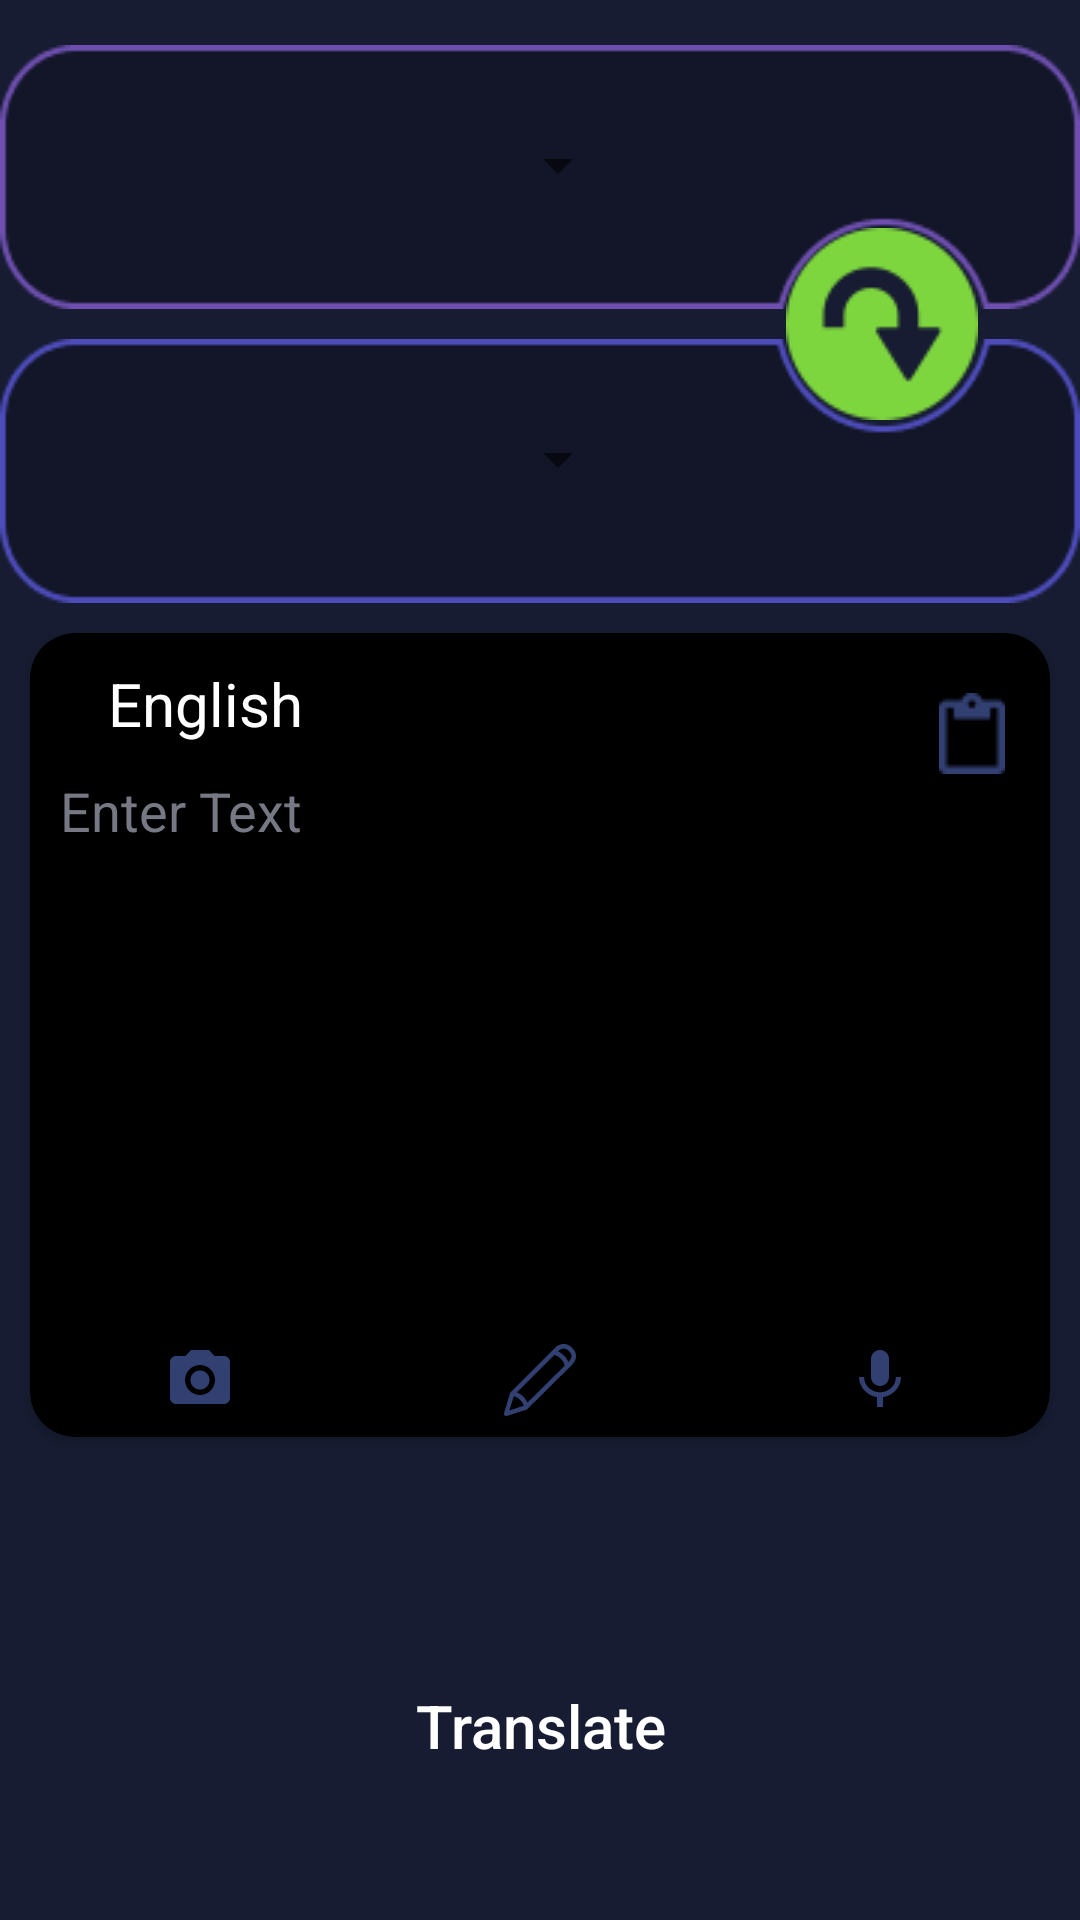

Icon click points for this 1080w x 1920h phone screenshot, format (x=x, y=y):
mic: (x=880, y=1378)
pencil: (x=540, y=1380)
photo camera: (x=200, y=1377)
